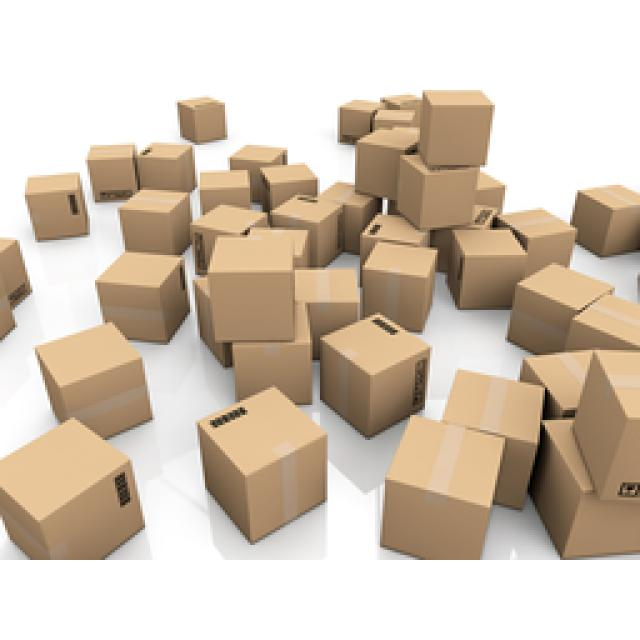cardboard: (0, 90, 638, 555), (28, 172, 88, 238), (0, 238, 30, 338), (178, 98, 225, 140)
